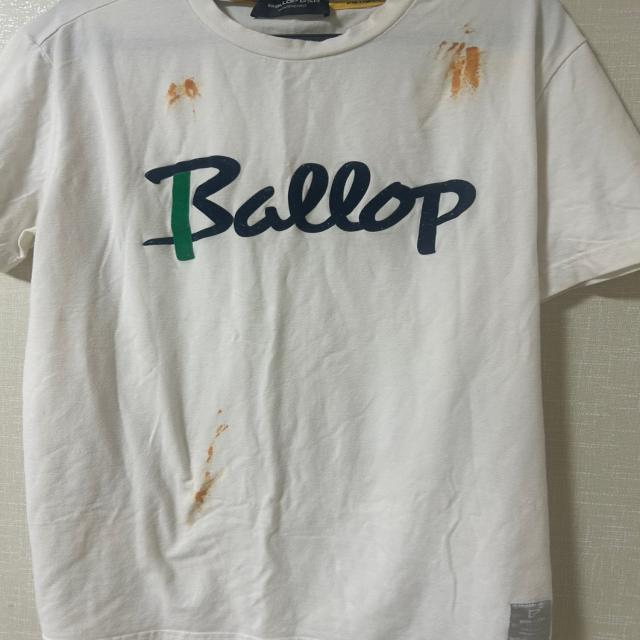stain: (430, 41, 492, 103), (204, 411, 231, 464), (160, 78, 204, 108), (195, 469, 223, 510), (454, 18, 481, 41)
